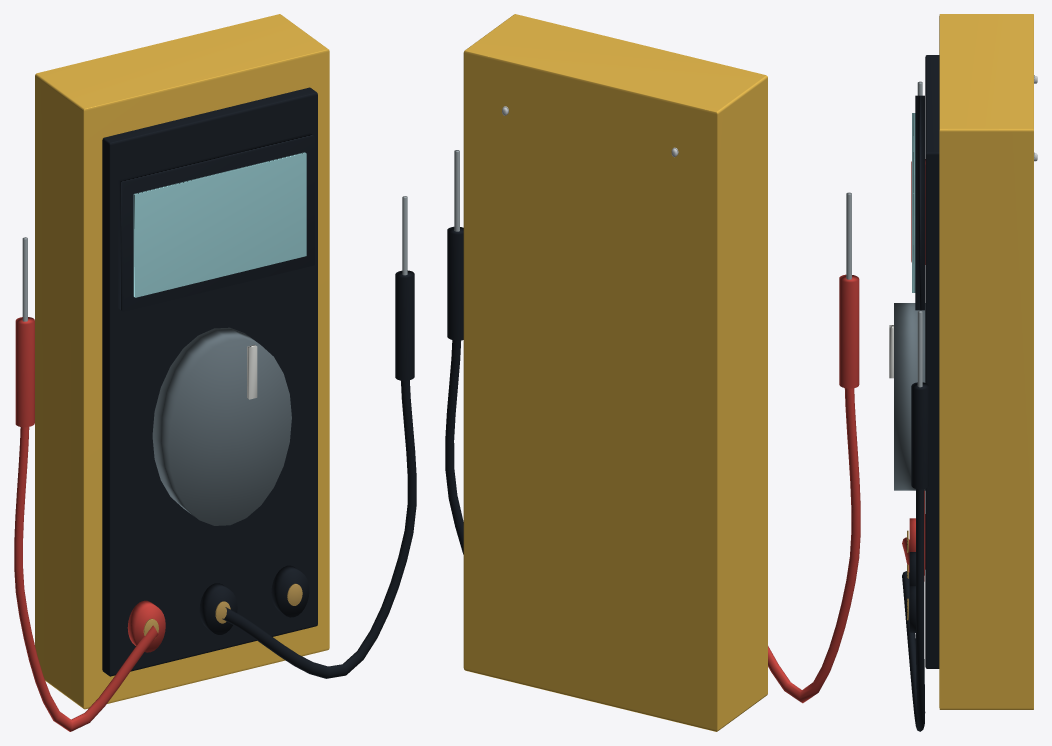
Rendered from multimeter_default.glb.
3 views of the same model, side by side, from view 1: azimuth 30°, elevation 25°; view 2: azimuth 150°, elevation 25°; view 3: azimuth 270°, elevation 25° (orthographic). The views are drawn at different scales.
Parts seen in each view (by area): view 1: part:body, part:display, part:actuator, part:probes.001 · Original e5042f9d, part:probes.001 · Original 1d88398a, part:probes · Original e5042f9d, part:probes, part:probes.001 · Original 480704c2, part:probes · Original 2a1ccac4; view 2: part:body, part:probes.001 · Original 1d88398a, part:probes.001 · Original e5042f9d, part:probes.001 · Original 480704c2; view 3: part:body, part:probes.001 · Original e5042f9d, part:actuator, part:display, part:probes · Original e5042f9d, part:probes.001 · Original 480704c2, part:probes.001 · Original 1d88398a.
Boxes of the visible parts, x1,y1,x2,y2 form: part:body: (35, 14, 329, 709); part:display: (118, 133, 314, 311); part:actuator: (152, 327, 291, 525); part:probes.001 · Original e5042f9d: (222, 270, 416, 678); part:probes.001 · Original 1d88398a: (14, 317, 158, 731); part:probes · Original e5042f9d: (199, 565, 309, 634); part:probes: (127, 600, 165, 652); part:probes.001 · Original 480704c2: (22, 196, 407, 321); part:probes · Original 2a1ccac4: (143, 583, 302, 638); part:body: (463, 14, 767, 731); part:probes.001 · Original 1d88398a: (768, 274, 860, 703); part:probes.001 · Original e5042f9d: (445, 226, 463, 554); part:probes.001 · Original 480704c2: (454, 150, 851, 279); part:body: (925, 14, 1033, 709); part:probes.001 · Original e5042f9d: (902, 382, 928, 731); part:actuator: (889, 303, 925, 490); part:display: (912, 95, 924, 310); part:probes · Original e5042f9d: (909, 552, 915, 632); part:probes.001 · Original 480704c2: (917, 81, 922, 387); part:probes.001 · Original 1d88398a: (902, 159, 925, 581).
Size of the model in its own units: 0.9035 by 1.33 by 0.2986.
